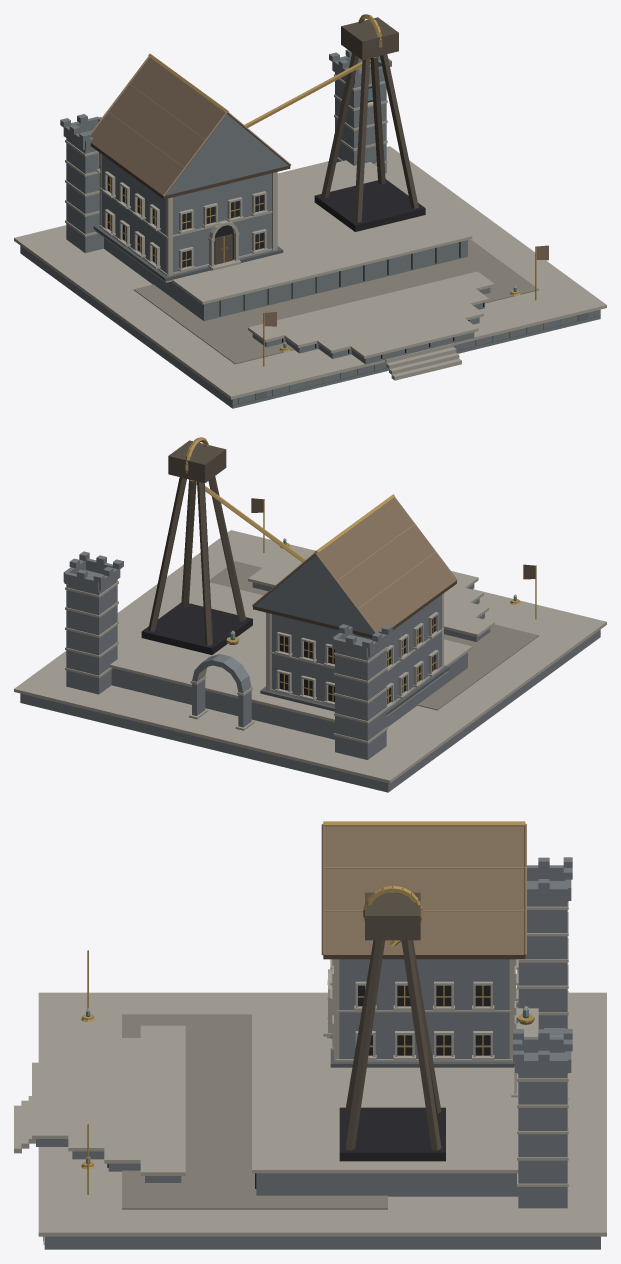
The model's file is delve.glb.
3 renders of one model, top to bottom at view 1: azimuth 30°, elevation 25°; view 2: azimuth 150°, elevation 25°; view 3: azimuth 270°, elevation 25°, orthographic. The views are drawn at different scales.
Visible parts, largest first — view 1: pithead, precinct-base, pithead-roof, inhabited-detail; view 2: pithead, precinct-base, pithead-roof, inhabited-detail; view 3: pithead, precinct-base, pithead-roof, inhabited-detail.
Boxes of the visible parts, x1,y1,x2,y2 form: pithead: [60, 14, 494, 364]; precinct-base: [14, 146, 606, 408]; pithead-roof: [90, 53, 291, 199]; inhabited-detail: [233, 245, 600, 405]; pithead: [63, 437, 494, 759]; precinct-base: [14, 530, 606, 792]; pithead-roof: [252, 494, 457, 638]; inhabited-detail: [251, 498, 536, 619]; pithead: [32, 857, 572, 1208]; precinct-base: [38, 992, 606, 1249]; pithead-roof: [321, 821, 526, 959]; inhabited-detail: [14, 950, 95, 1244].
Size of the model in its own units: 23.5 by 13.73 by 24.52.
